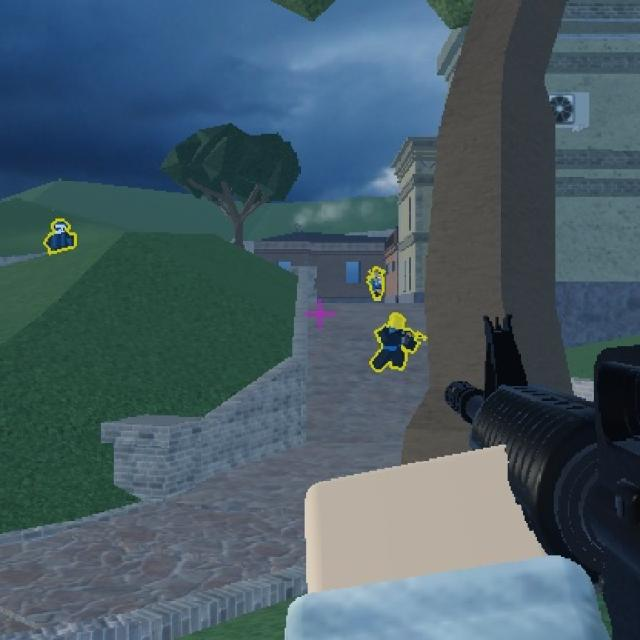player: (372, 312, 411, 375), (49, 214, 76, 255), (369, 265, 388, 301)
